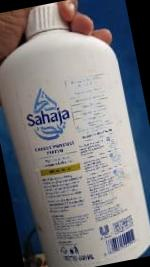Plastik: (0, 1, 150, 267)
